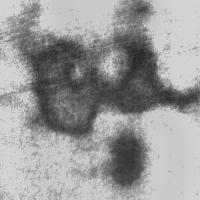patches: (39, 87, 183, 200), (105, 24, 191, 114), (27, 34, 98, 138), (58, 0, 152, 50), (104, 130, 144, 189)
